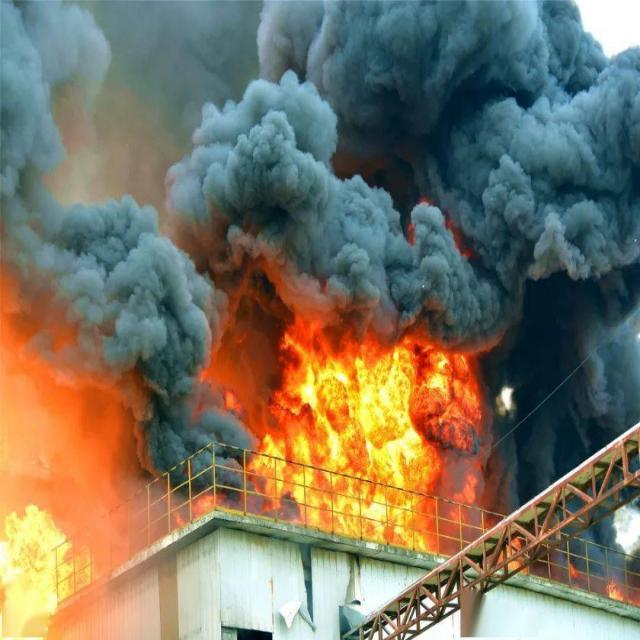Fire: (250, 325, 480, 545), (0, 502, 67, 640)
Smoke: (246, 0, 640, 327), (0, 0, 247, 447)
